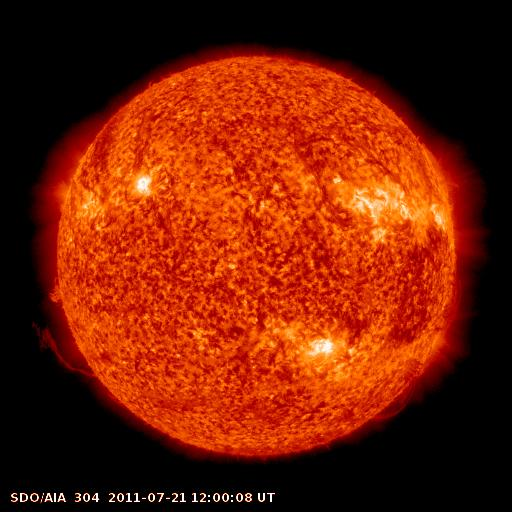prominence: (27, 277, 109, 383), (356, 374, 428, 424)
